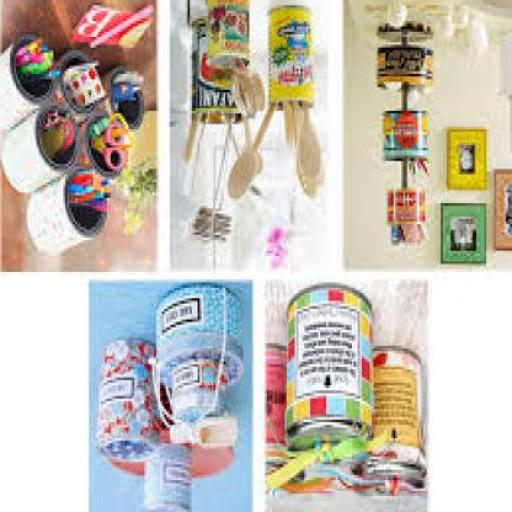metal: (290, 290, 376, 446), (350, 348, 427, 480), (159, 287, 245, 391), (98, 343, 160, 464), (28, 175, 109, 258), (4, 111, 81, 195), (194, 21, 248, 124), (3, 36, 59, 135), (269, 345, 306, 486), (272, 10, 318, 106), (174, 364, 228, 422), (145, 448, 193, 511), (209, 2, 251, 66), (384, 114, 432, 160), (381, 50, 435, 90), (387, 193, 429, 227), (378, 21, 434, 42)
